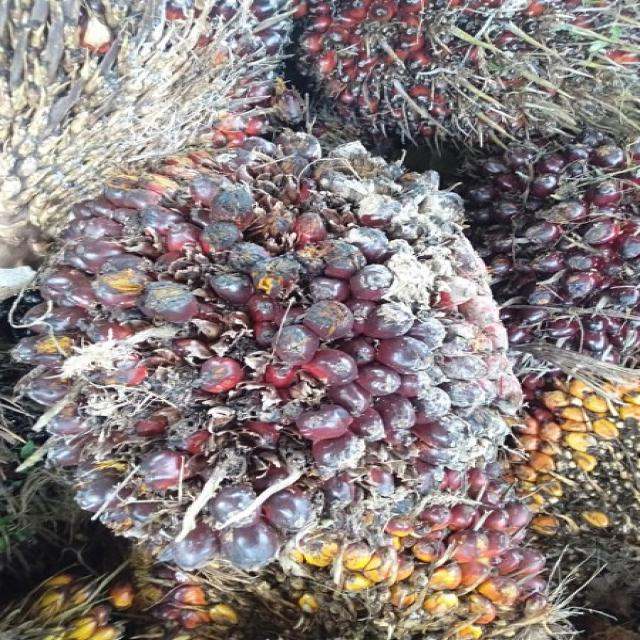fraksi 1: (18, 144, 510, 553)
